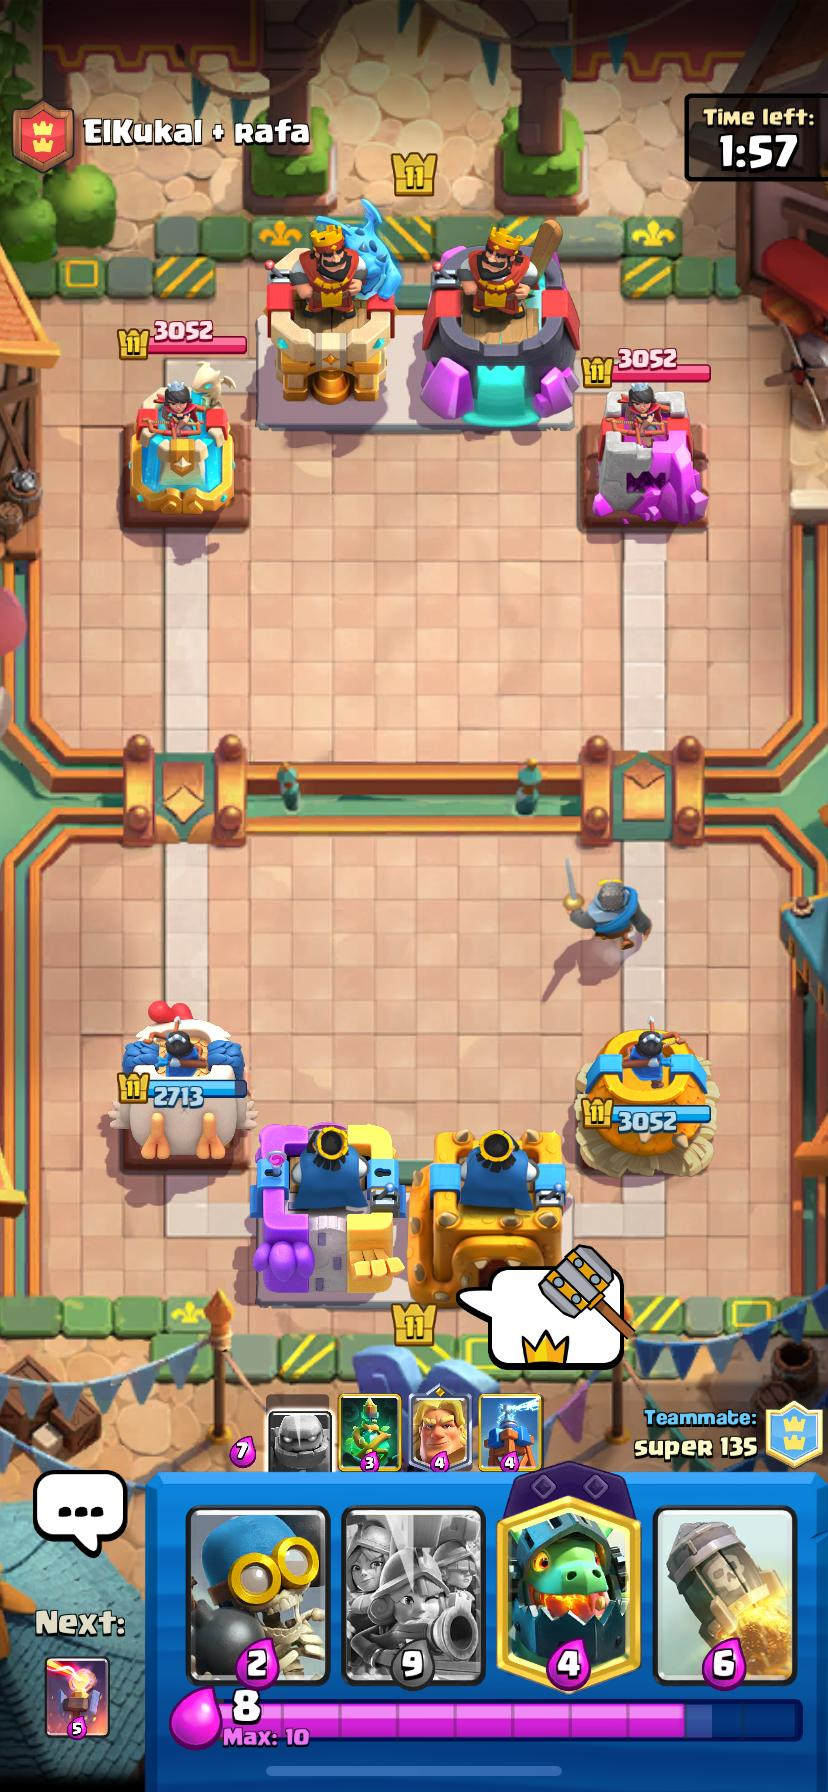EKingTower: (421, 224, 578, 427), (266, 203, 400, 405)
EnemyPrincessTower: (127, 363, 234, 521), (587, 386, 707, 525)
OKnight: (564, 859, 650, 945)
OwnKingTower: (407, 1129, 564, 1305), (250, 1123, 403, 1303)
OwnPrincessTower: (109, 1003, 255, 1163), (576, 1019, 717, 1175)
